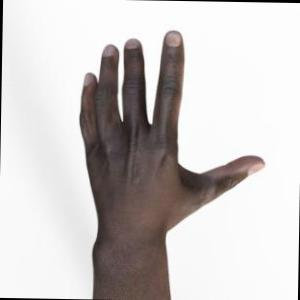paper: (80, 31, 263, 300)
